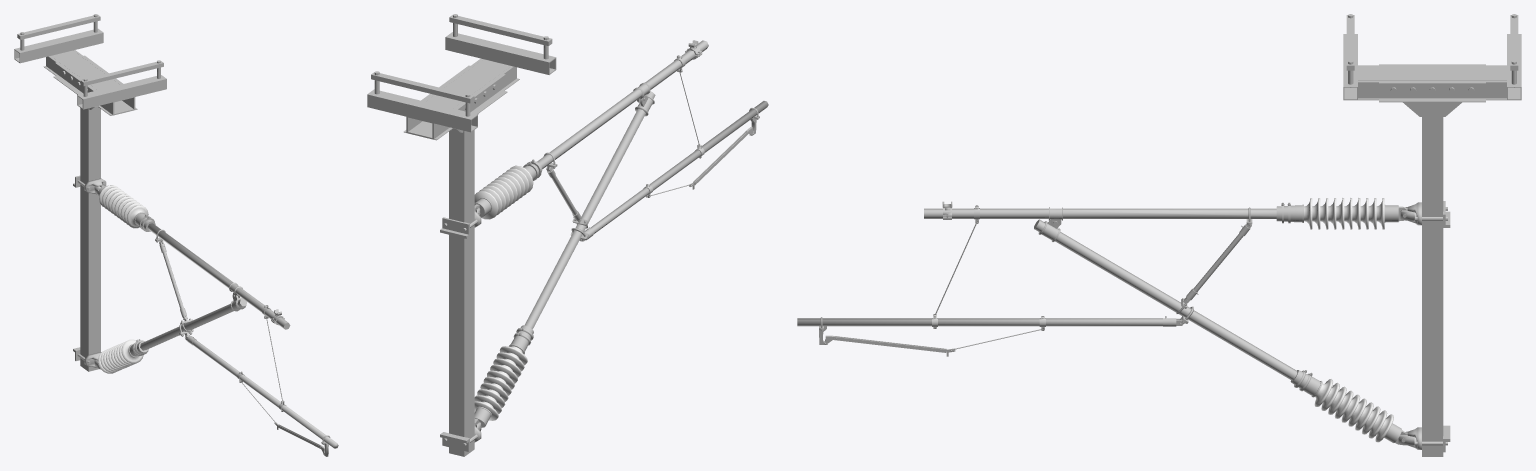
File: gantry_single_anti.obj
3 views of the same model, side by side, from view 1: azimuth 30°, elevation 25°; view 2: azimuth 150°, elevation 25°; view 3: azimuth 270°, elevation 25° (orthographic). The views are drawn at different scales.
Visible parts, largest first — view 1: 立方体.369, 1, 1.003, 立方体.173, 立方体.175, 立方体.168, 立方体.165, 立方体.174, 立方体.176, 立方体.166, 1.001; view 2: 1, 立方体.369, 1.003, 立方体.175, 立方体.173, 立方体.168, 立方体.165, 立方体.174, 立方体.176, 1.001, 立方体.166, 立方体.094; view 3: 1, 立方体.369, 1.003, 立方体.168, 立方体.165, 1.001.
Part boxes in pixels (box(x1,y1,x2,y2)): 立方体.369: box(80, 106, 100, 371); 1: box(97, 185, 338, 448); 1.003: box(98, 185, 148, 373); 立方体.173: box(14, 28, 103, 63); 立方体.175: box(77, 75, 166, 109); 立方体.168: box(48, 50, 123, 91); 立方体.165: box(46, 56, 135, 115); 立方体.174: box(17, 15, 100, 39); 立方体.176: box(80, 61, 163, 86); 立方体.166: box(43, 66, 137, 115); 1.001: box(237, 371, 330, 456); 1: box(474, 40, 768, 429); 立方体.369: box(449, 129, 474, 456); 1.003: box(474, 165, 533, 420); 立方体.175: box(445, 32, 556, 74); 立方体.173: box(367, 89, 477, 132); 立方体.168: box(421, 58, 514, 109); 立方体.165: box(406, 67, 516, 139); 立方体.174: box(371, 72, 474, 103); 立方体.176: box(449, 15, 552, 45); 1.001: box(643, 108, 759, 197); 立方体.166: box(404, 78, 519, 140); 立方体.094: box(440, 217, 469, 238); 1: box(797, 201, 1407, 444); 立方体.369: box(1422, 102, 1443, 456); 1.003: box(1304, 198, 1393, 442); 立方体.168: box(1358, 64, 1506, 83); 立方体.165: box(1358, 80, 1506, 98); 1.001: box(819, 316, 1045, 356).
Size of the model in its own units: 0.9365 by 3.42 by 5.41.
